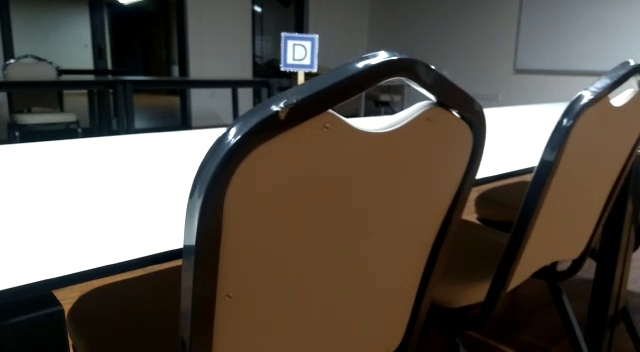durak: (280, 32, 318, 72)
